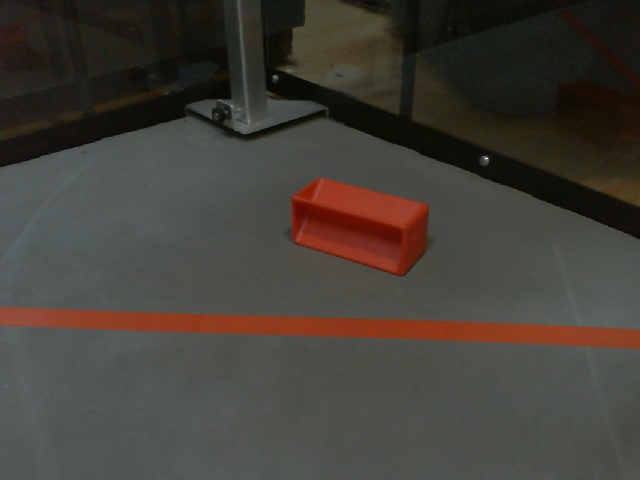RedSample: (290, 174, 434, 279)
